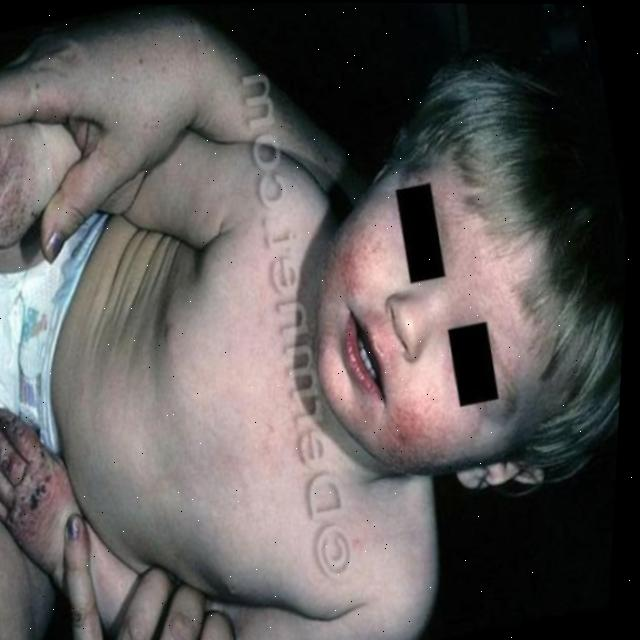Eczema: (321, 209, 384, 289), (0, 450, 56, 513), (0, 143, 34, 224), (384, 399, 435, 440)
